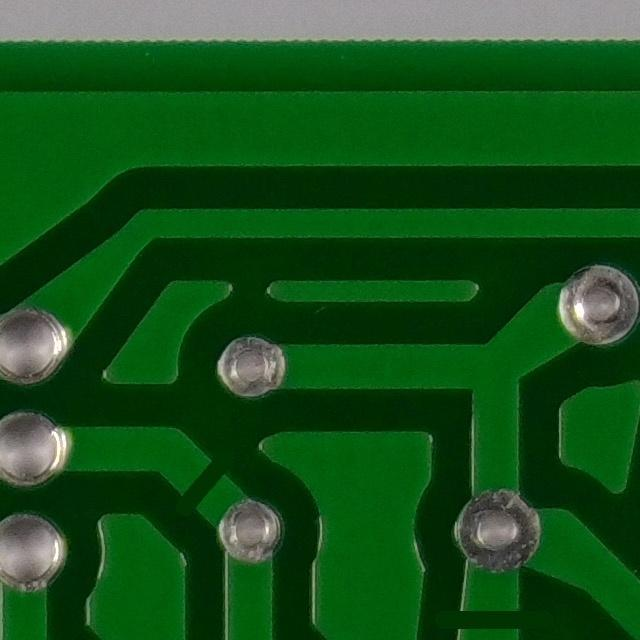open_circuit: (165, 445, 245, 519), (441, 593, 550, 640)
